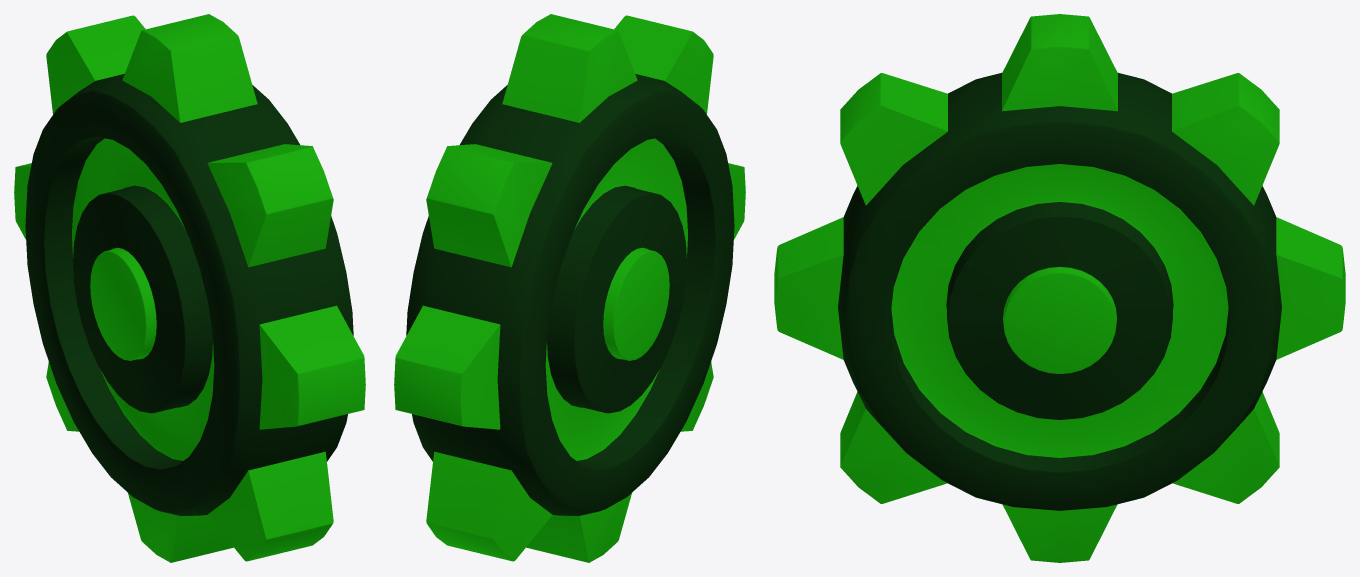
File: Tech_Skills.FBX
3 views of the same model, side by side, from view 1: azimuth 30°, elevation 25°; view 2: azimuth 150°, elevation 25°; view 3: azimuth 270°, elevation 25° (orthographic).
Parts seen in each view (by area): view 1: Cylinder001; view 2: Cylinder001; view 3: Cylinder001.
Part boxes in pixels (x1,y1,x2,y2): Cylinder001: [14, 14, 365, 562]; Cylinder001: [394, 14, 745, 562]; Cylinder001: [774, 14, 1345, 562].
Size of the model in its own units: 3.53 by 12.1 by 12.1.
